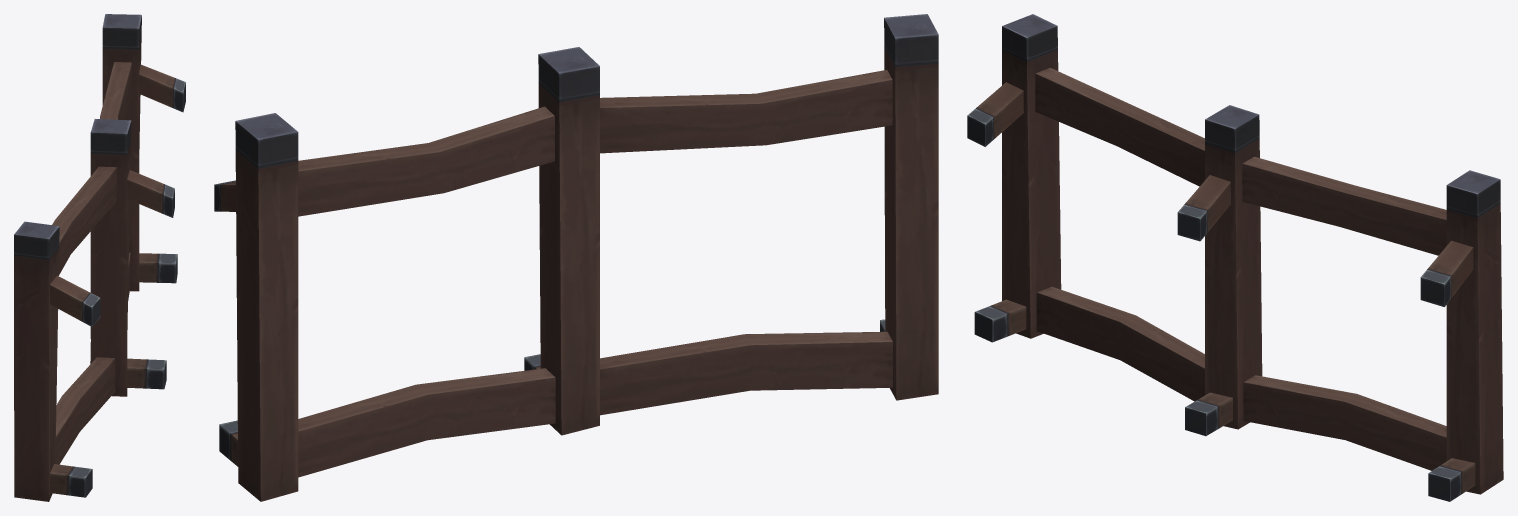
Rendered from scene_malujiakuangdao_hulan04.FBX.
The picture shows the model from 3 angles, left to right: view 1: azimuth 30°, elevation 25°; view 2: azimuth 150°, elevation 25°; view 3: azimuth 270°, elevation 25°; orthographic projection. The views are drawn at different scales.
Visible parts, largest first — view 1: scene_malujiakuangdao_hulan04; view 2: scene_malujiakuangdao_hulan04; view 3: scene_malujiakuangdao_hulan04.
Part boxes in pixels (x1=…): scene_malujiakuangdao_hulan04: x1=14, y1=14, x2=185, y2=501; scene_malujiakuangdao_hulan04: x1=214, y1=14, x2=938, y2=501; scene_malujiakuangdao_hulan04: x1=967, y1=14, x2=1503, y2=501.
Bounding box in the file's own units: 273 × 195 × 314.
